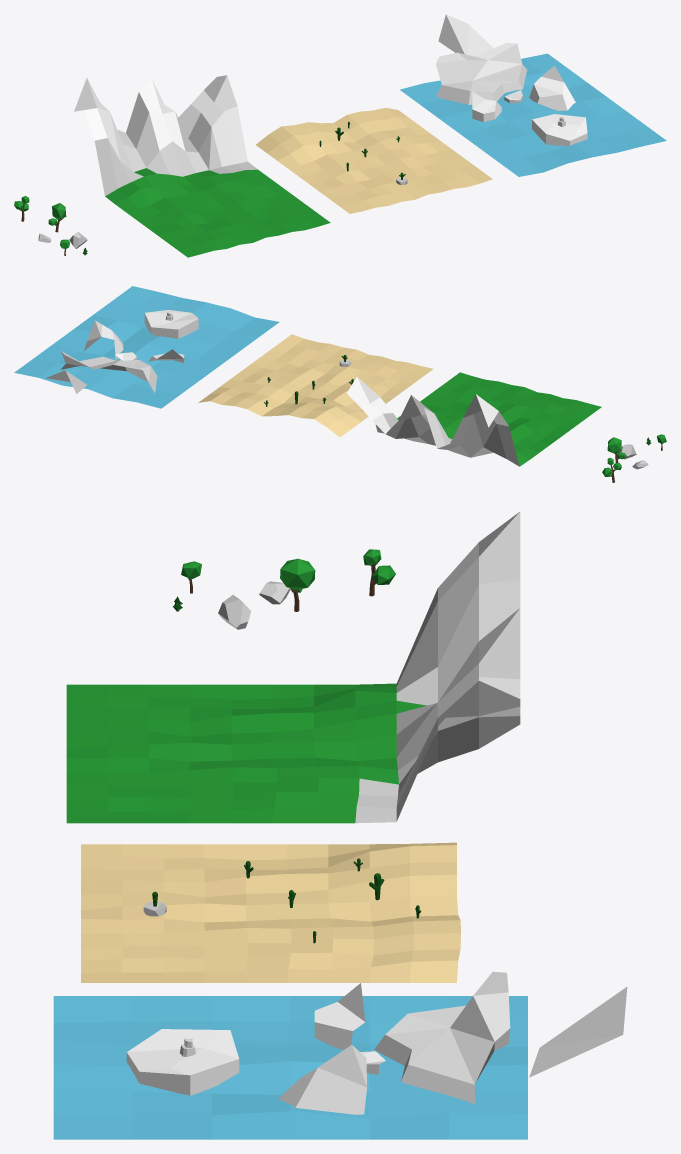
File: All.fbx
The picture shows the model from 3 angles, top to bottom: view 1: azimuth 30°, elevation 25°; view 2: azimuth 150°, elevation 25°; view 3: azimuth 270°, elevation 25°; orthographic projection. The views are drawn at different scales.
Visible parts, largest first — view 1: Plane, песко, Plane.003, айсберг, айсберг.002, айсберг.001, айсберг.003; view 2: Plane.003, Plane, песко, айсберг, айсберг.002, айсберг.001; view 3: Plane, песко, Plane.003, айсберг, айсберг.002, айсберг.001, айсберг.003, Cylinder.001.
Part boxes in pixels (left/top/right/bottom): Plane: left=74, top=75, right=330, bottom=257; песко: left=256, top=107, right=492, bottom=213; Plane.003: left=400, top=53, right=666, bottom=176; айсберг: left=436, top=14, right=527, bottom=104; айсберг.002: left=532, top=114, right=587, bottom=145; айсберг.001: left=529, top=65, right=575, bottom=110; айсберг.003: left=472, top=91, right=501, bottom=121; Plane.003: left=14, top=286, right=279, bottom=408; Plane: left=347, top=372, right=601, bottom=466; песко: left=198, top=334, right=433, bottom=437; айсберг: left=45, top=351, right=157, bottom=394; айсберг.002: left=144, top=310, right=198, bottom=338; айсберг.001: left=84, top=320, right=123, bottom=354; Plane: left=66, top=511, right=520, bottom=823; песко: left=81, top=842, right=460, bottom=982; Plane.003: left=53, top=996, right=527, bottom=1139; айсберг: left=374, top=971, right=627, bottom=1104; айсберг.002: left=126, top=1029, right=239, bottom=1095; айсберг.001: left=278, top=1045, right=366, bottom=1114; айсберг.003: left=314, top=983, right=365, bottom=1049; Cylinder.001: left=280, top=558, right=315, bottom=611.
Bounding box in the file's own units: 22475 × 3917 × 9796.
